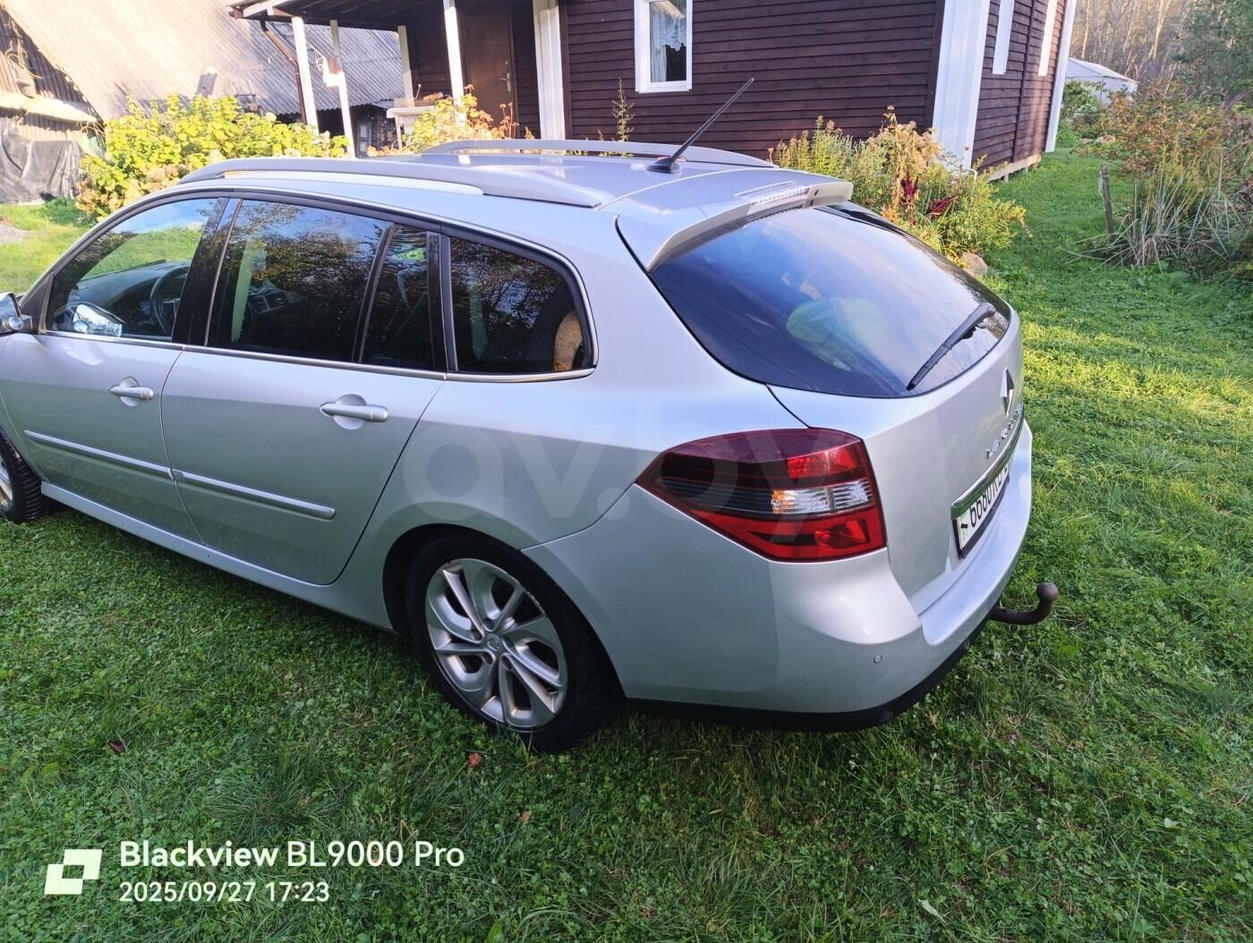Laguna_2010-2015: (0, 138, 1047, 777)
